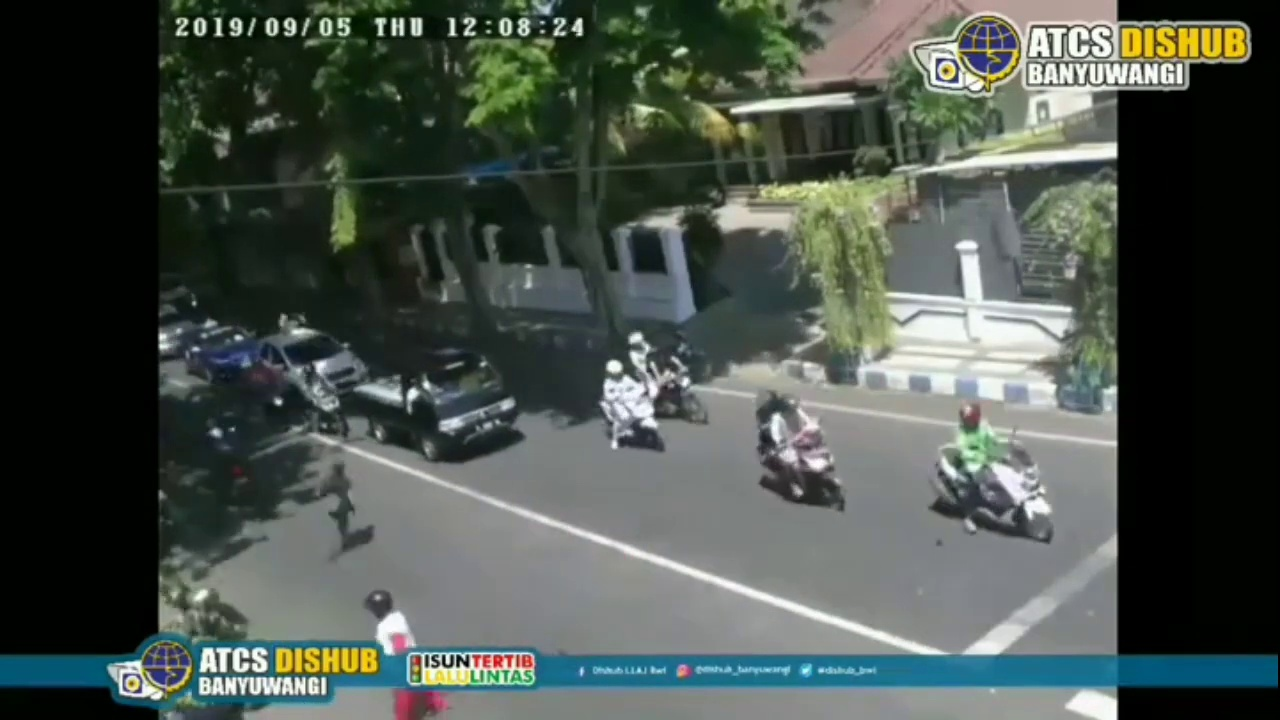car: (354, 337, 520, 467), (260, 327, 370, 405), (184, 320, 258, 382)
motorbike: (935, 399, 1054, 550), (750, 388, 847, 512), (625, 332, 709, 426), (591, 358, 665, 454), (301, 362, 346, 434)
